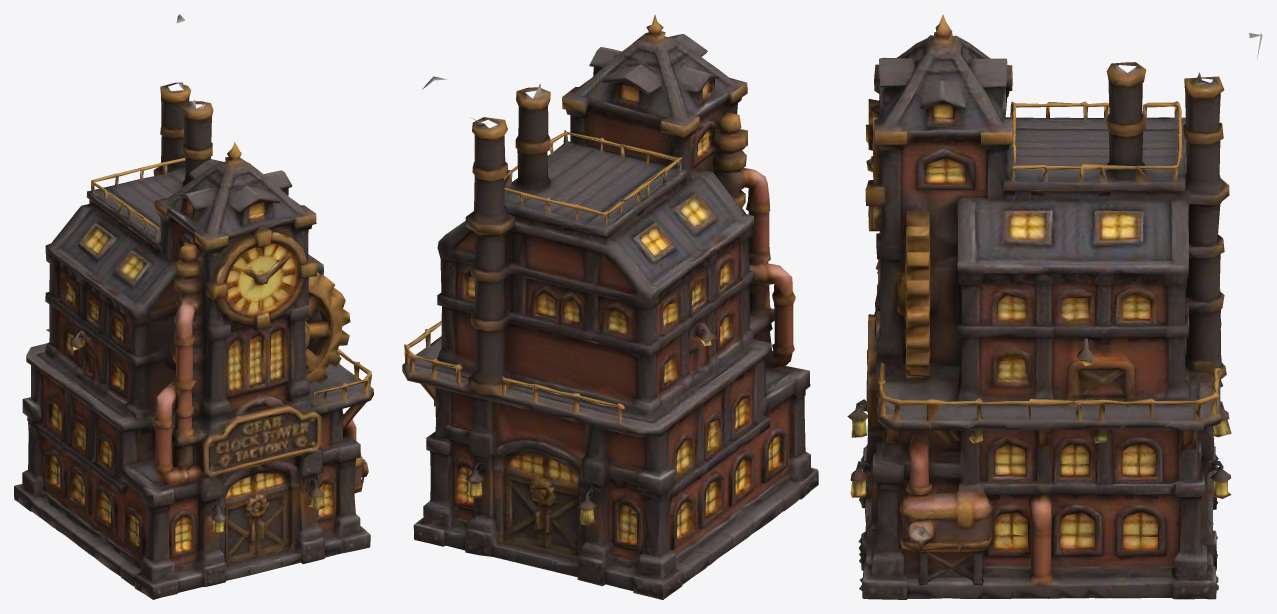
File: bg_clocktower.glb
3 views of the same model, side by side, from view 1: azimuth 30°, elevation 25°; view 2: azimuth 150°, elevation 25°; view 3: azimuth 270°, elevation 25° (orthographic). The views are drawn at different scales.
Parts seen in each view (by area): view 1: tripo_node_1afa936d-cd96-4033-b67e-d699f0d93988; view 2: tripo_node_1afa936d-cd96-4033-b67e-d699f0d93988; view 3: tripo_node_1afa936d-cd96-4033-b67e-d699f0d93988.
Boxes of the visible parts, x1,y1,x2,y2 form: tripo_node_1afa936d-cd96-4033-b67e-d699f0d93988: (14, 14, 373, 599); tripo_node_1afa936d-cd96-4033-b67e-d699f0d93988: (402, 14, 818, 599); tripo_node_1afa936d-cd96-4033-b67e-d699f0d93988: (847, 14, 1262, 599).
Size of the model in its own units: 0.5853 by 1 by 0.69.
Materials: 1 (1 with a texture image).
